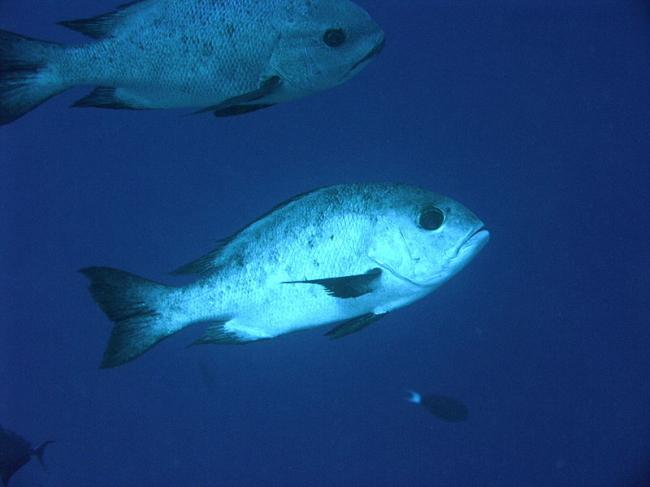fish: (81, 180, 490, 369)
